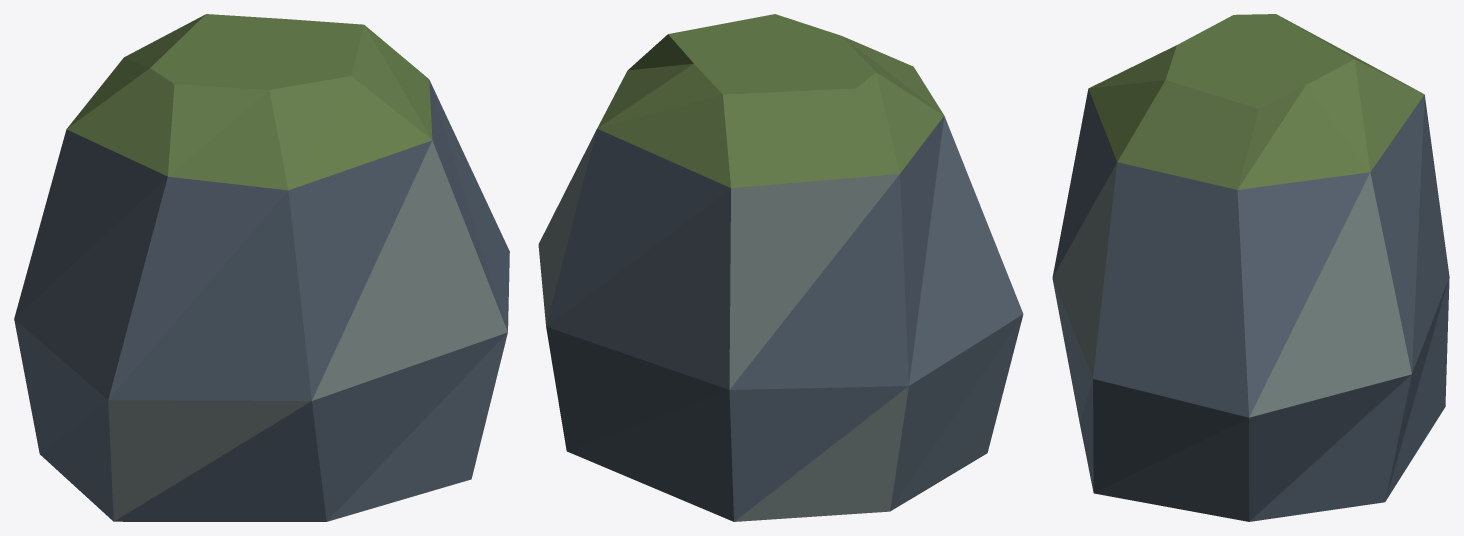
File: moss_boulder.glb
3 views of the same model, side by side, from view 1: azimuth 30°, elevation 25°; view 2: azimuth 150°, elevation 25°; view 3: azimuth 270°, elevation 25° (orthographic). The views are drawn at different scales.
Visible parts, largest first — view 1: moss_boulder; view 2: moss_boulder; view 3: moss_boulder.
Part boxes in pixels (left/top/right/bottom): moss_boulder: left=14, top=14, right=509, bottom=521; moss_boulder: left=538, top=14, right=1023, bottom=521; moss_boulder: left=1052, top=14, right=1449, bottom=521.
Bounding box in the file's own units: 2.88 × 2.4 × 2.3.
